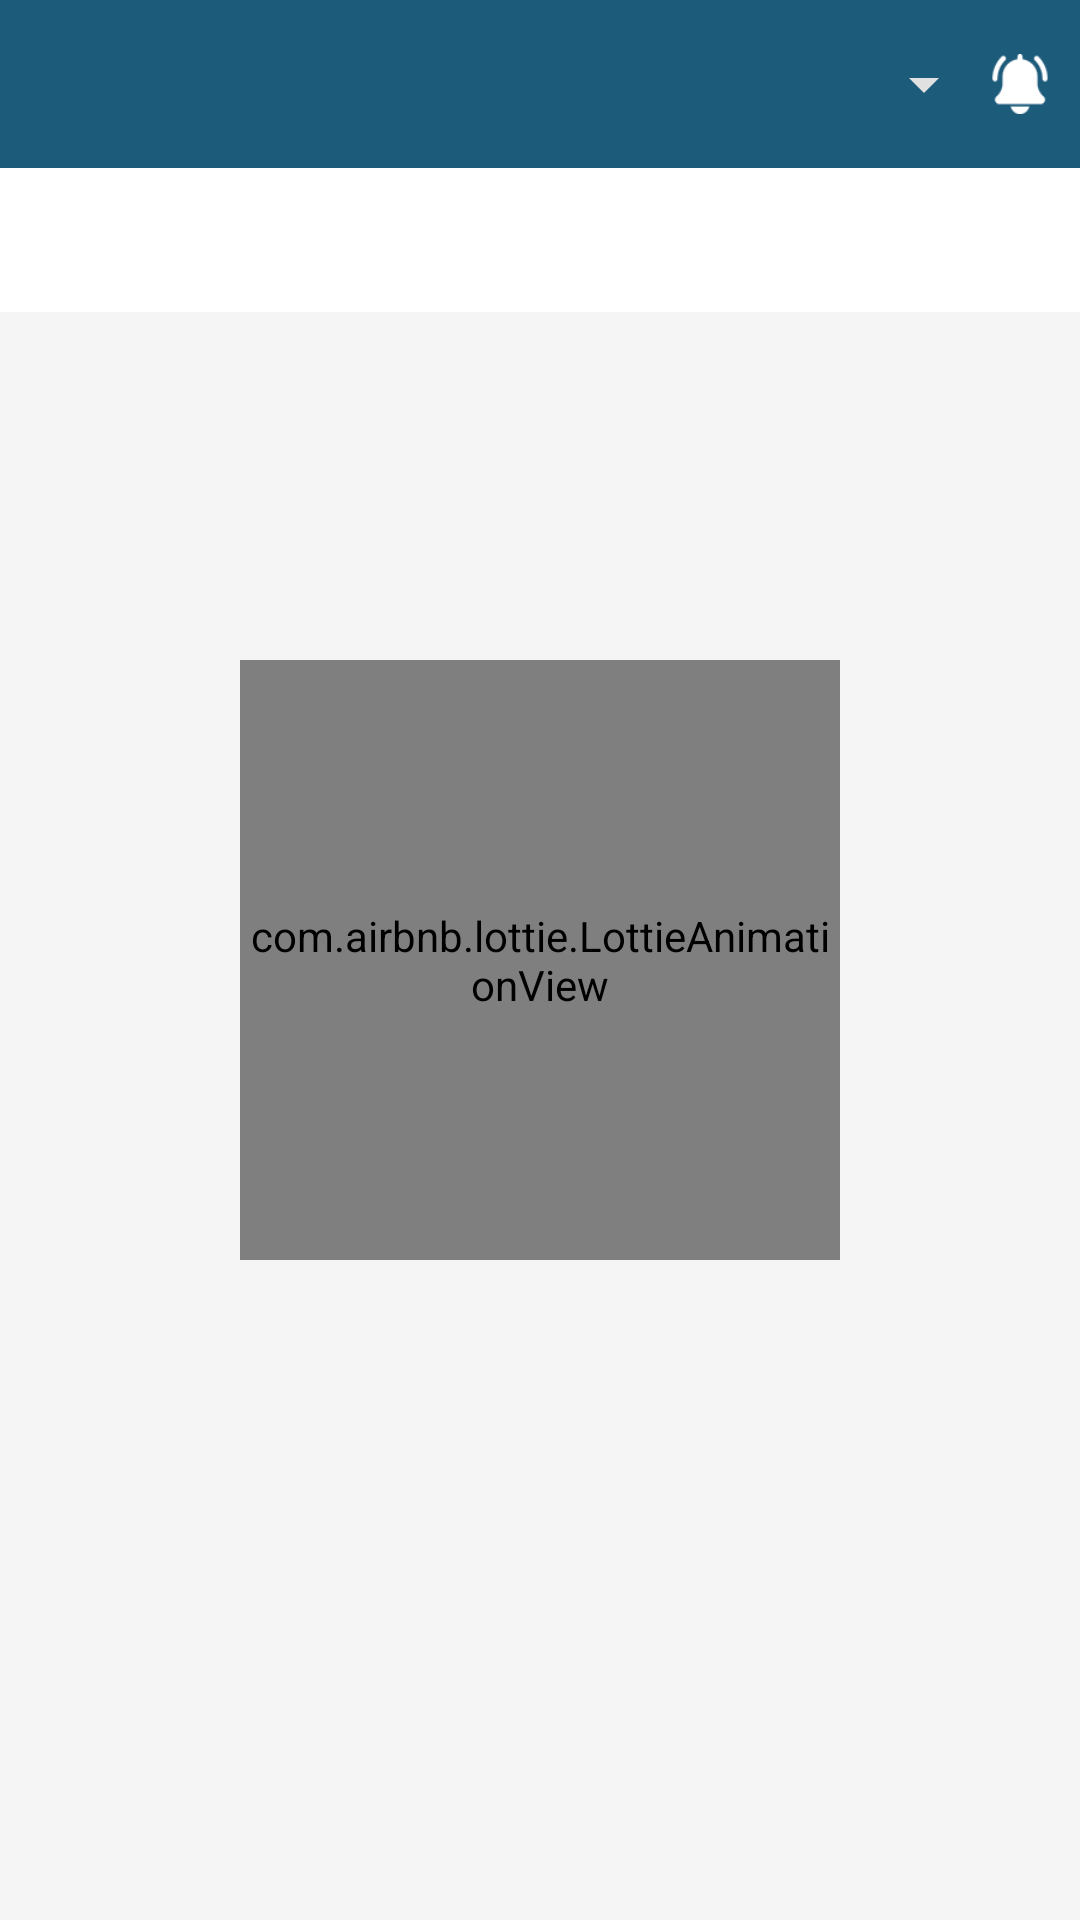

Icons on this 1080 × 1920 Android screen, each with its box as (left=x1, top=y1, right=x2, bottom=y2):
notify: (left=992, top=54, right=1048, bottom=114)
